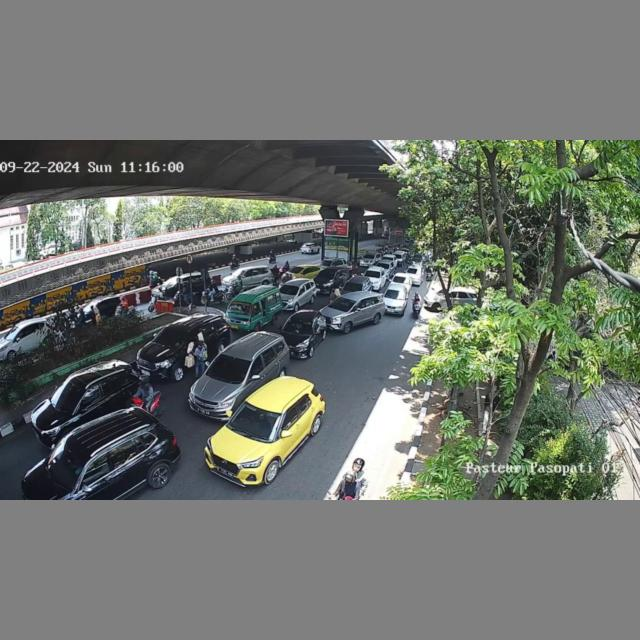windshield: (228, 402, 285, 439), (48, 441, 89, 491), (206, 354, 253, 378), (49, 383, 85, 409), (153, 327, 187, 348), (284, 320, 315, 333), (226, 301, 252, 315), (328, 299, 355, 311), (280, 285, 298, 294)
